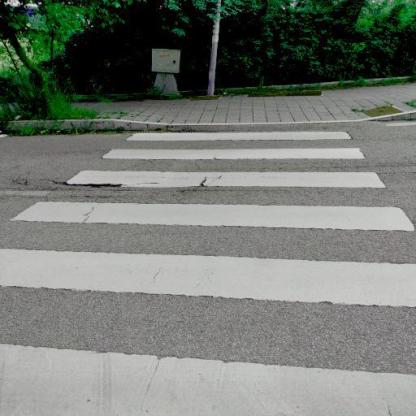crosswalk: (6, 169, 415, 237), (97, 129, 369, 162)
